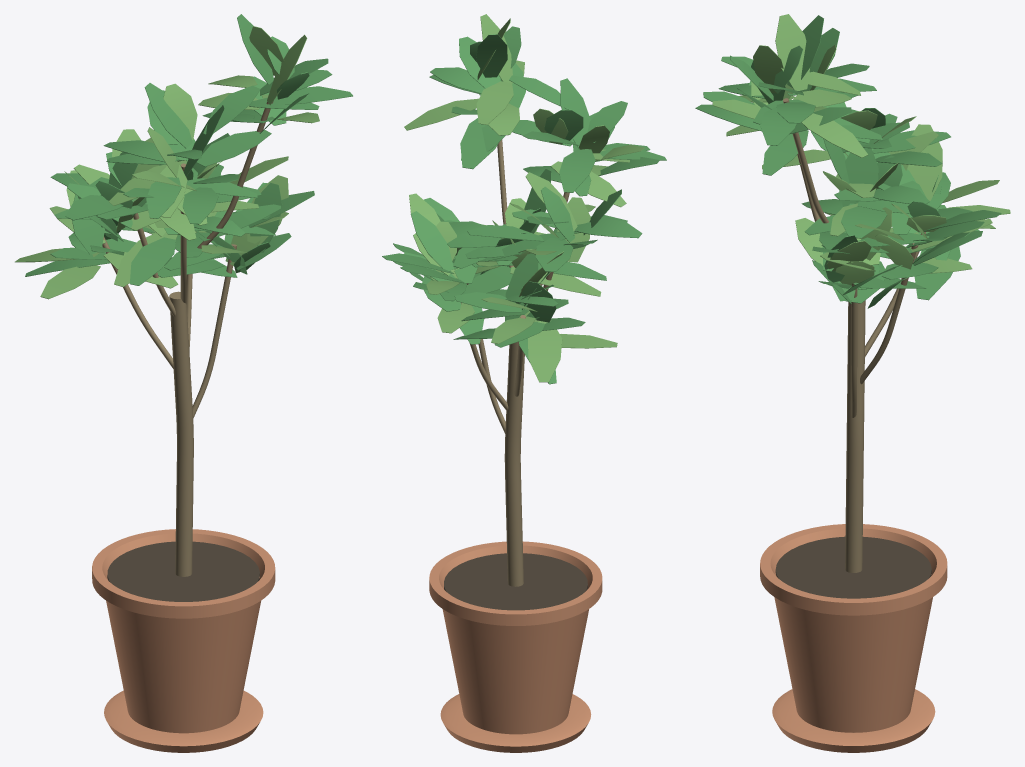
File: corr_ficus_b.fbx
3 views of the same model, side by side, from view 1: azimuth 30°, elevation 25°; view 2: azimuth 150°, elevation 25°; view 3: azimuth 270°, elevation 25° (orthographic). The views are drawn at different scales.
Parts seen in each view (by area): view 1: EQ_corr_ficus_b_M_Leaf, EQ_corr_ficus_b_M_Terracotta, EQ_corr_ficus_b_M_LeafLight, EQ_corr_ficus_b_M_Stem, EQ_corr_ficus_b_M_Soil; view 2: EQ_corr_ficus_b_M_Leaf, EQ_corr_ficus_b_M_Terracotta, EQ_corr_ficus_b_M_LeafLight, EQ_corr_ficus_b_M_Soil, EQ_corr_ficus_b_M_Stem; view 3: EQ_corr_ficus_b_M_Terracotta, EQ_corr_ficus_b_M_Leaf, EQ_corr_ficus_b_M_LeafLight, EQ_corr_ficus_b_M_Soil, EQ_corr_ficus_b_M_Stem.
Boxes of the visible parts, x1,y1,x2,y2 form: EQ_corr_ficus_b_M_Leaf: (25,14,352,285); EQ_corr_ficus_b_M_Terracotta: (92,529,275,752); EQ_corr_ficus_b_M_LeafLight: (15,26,319,299); EQ_corr_ficus_b_M_Stem: (102,101,273,576); EQ_corr_ficus_b_M_Soil: (107,541,259,601); EQ_corr_ficus_b_M_Leaf: (382,26,666,384); EQ_corr_ficus_b_M_Terracotta: (429,541,602,752); EQ_corr_ficus_b_M_LeafLight: (404,14,644,382); EQ_corr_ficus_b_M_Soil: (444,553,587,610); EQ_corr_ficus_b_M_Stem: (461,139,569,586); EQ_corr_ficus_b_M_Terracotta: (760,524,947,752); EQ_corr_ficus_b_M_Leaf: (695,15,1001,308); EQ_corr_ficus_b_M_LeafLight: (712,14,1010,285); EQ_corr_ficus_b_M_Soil: (775,536,931,598); EQ_corr_ficus_b_M_Stem: (783,98,925,572).
Size of the model in its own units: 0.8996 by 2.4 by 0.9446.
